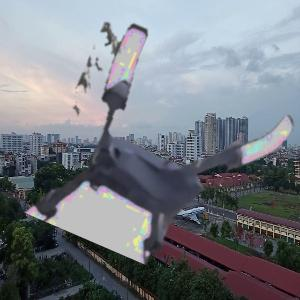drone: (58, 38, 288, 268)
